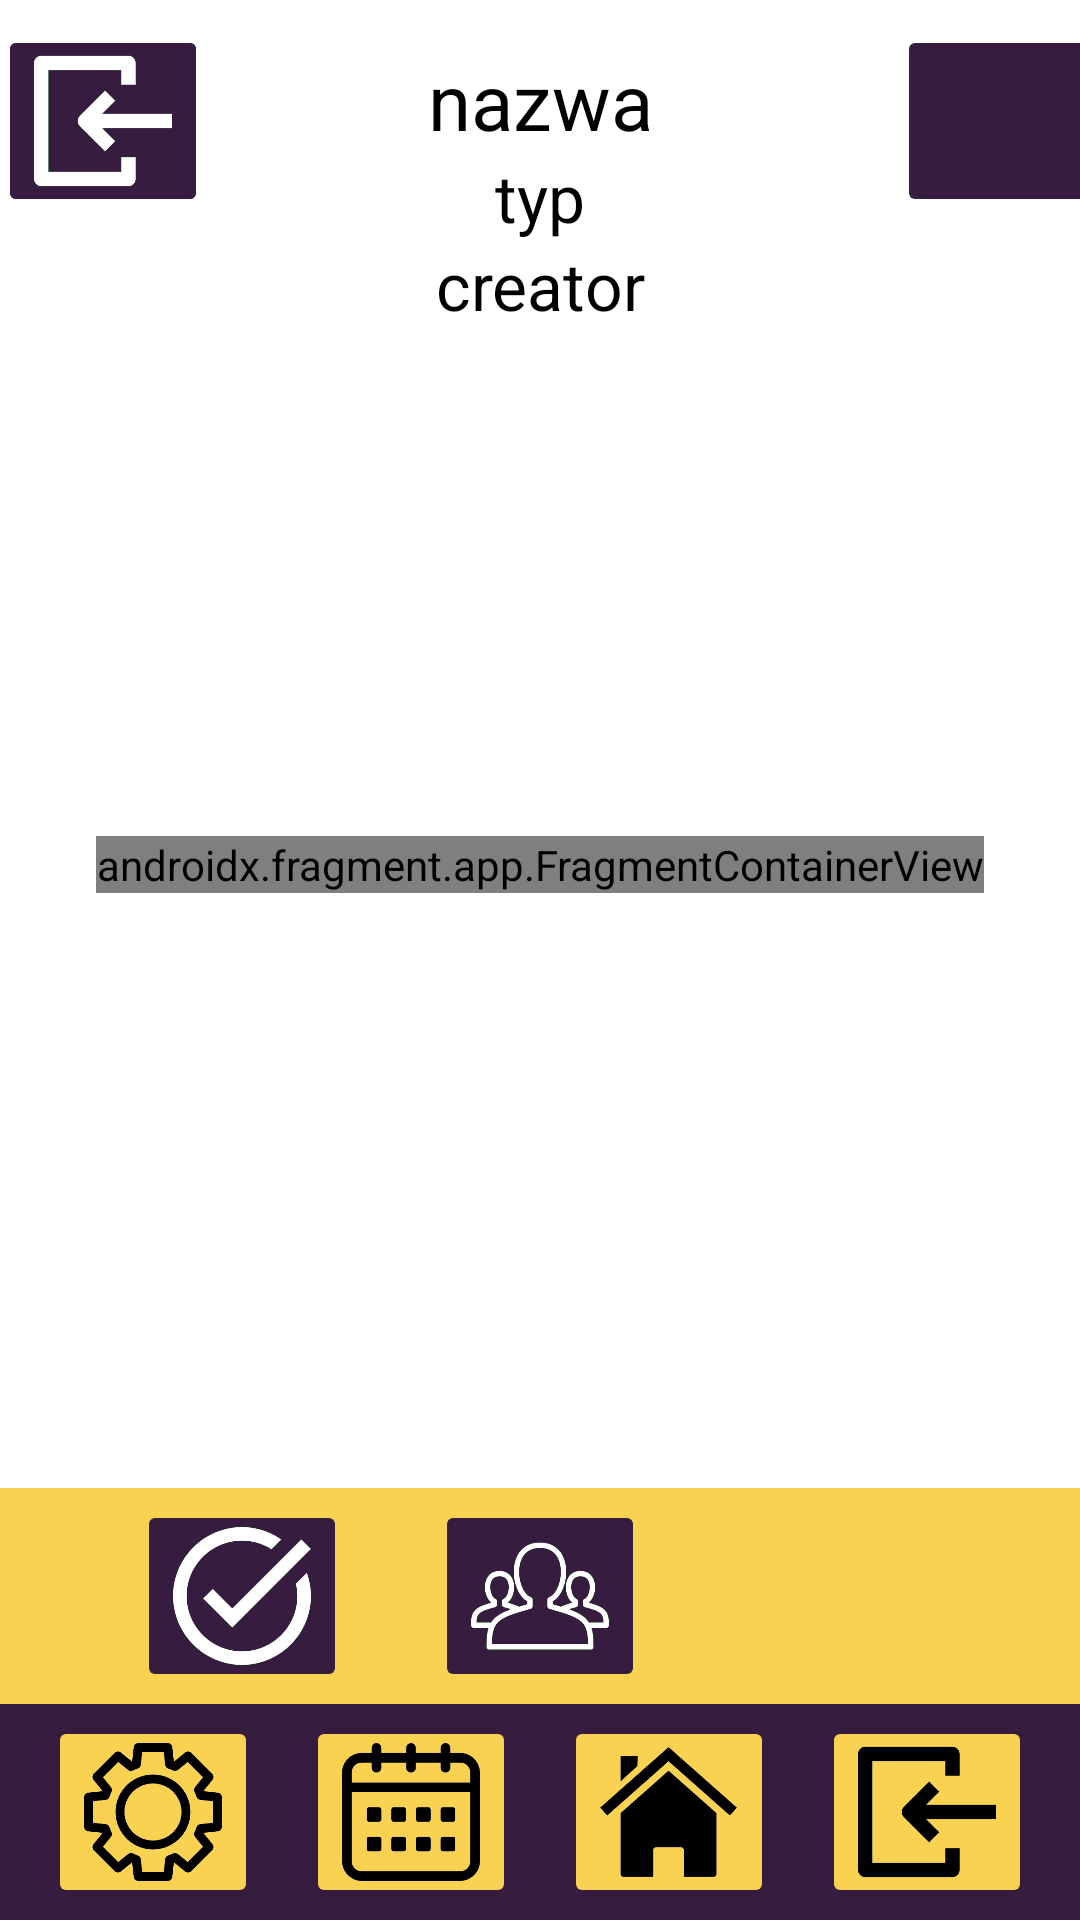

Icons on this 1080 x 1920 Android screen, each with its box as [left=x1, top=y1, right=x2, bottom=y2]:
calendar: [left=318, top=1734, right=504, bottom=1890]
home: [left=576, top=1734, right=762, bottom=1890]
settings: [left=60, top=1734, right=246, bottom=1890]
task: [left=149, top=1518, right=335, bottom=1674]
users: [left=447, top=1518, right=633, bottom=1674]
